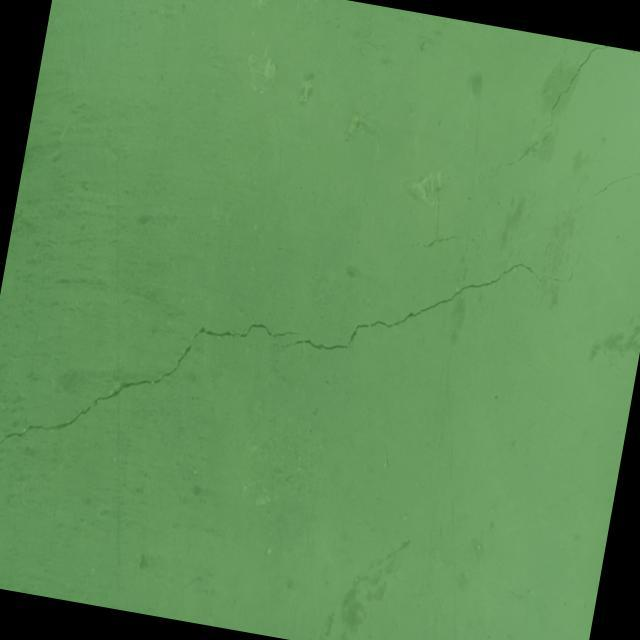crack: (0, 278, 301, 515), (273, 203, 582, 398), (468, 116, 552, 212), (538, 37, 609, 144), (588, 135, 640, 210), (411, 228, 460, 254)
